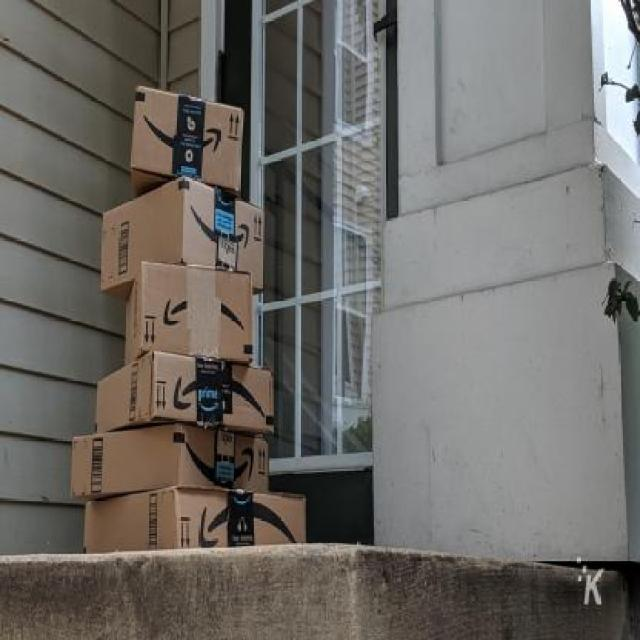cardboxes: (96, 185, 266, 290), (83, 490, 314, 561), (90, 350, 278, 432), (118, 264, 253, 371), (68, 426, 274, 494), (126, 80, 240, 194)
